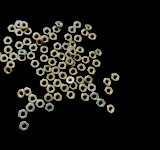nut: (19, 121, 30, 132), (18, 110, 29, 120), (3, 45, 14, 55), (26, 103, 36, 114), (39, 78, 49, 89), (103, 87, 114, 97), (65, 91, 76, 101), (90, 92, 99, 104), (3, 66, 13, 76), (35, 99, 45, 109), (43, 94, 53, 104), (96, 99, 106, 109), (36, 68, 46, 78), (84, 75, 94, 85), (46, 102, 55, 113), (87, 66, 96, 77), (3, 36, 13, 45), (74, 34, 83, 44), (30, 60, 40, 69), (93, 59, 102, 69), (81, 93, 90, 103), (54, 93, 63, 103), (60, 84, 69, 94), (28, 44, 38, 53), (14, 41, 24, 50), (34, 38, 44, 47), (59, 71, 68, 81), (88, 83, 97, 93), (77, 63, 87, 72), (107, 104, 115, 115), (46, 86, 57, 94), (101, 78, 112, 86), (112, 73, 121, 82), (28, 95, 37, 104), (27, 52, 36, 61), (48, 58, 57, 67), (40, 54, 49, 63), (49, 33, 58, 42), (70, 82, 79, 91), (88, 33, 97, 42), (53, 42, 62, 51), (82, 56, 91, 65), (68, 59, 77, 68), (18, 89, 26, 99), (46, 73, 56, 81), (53, 80, 63, 88), (0, 55, 10, 63), (14, 29, 24, 37), (79, 85, 89, 93), (69, 68, 79, 76), (64, 51, 74, 59), (10, 52, 18, 62), (8, 25, 17, 33), (20, 21, 29, 29), (23, 38, 32, 46), (25, 88, 33, 97), (7, 61, 15, 70), (43, 65, 52, 73), (43, 28, 52, 36), (33, 32, 41, 41), (55, 20, 64, 28), (53, 25, 61, 34), (67, 75, 75, 84), (76, 77, 85, 85), (58, 62, 67, 70), (62, 42, 70, 51), (74, 35, 82, 44), (64, 33, 72, 42), (58, 52, 66, 61), (69, 48, 77, 57), (74, 54, 82, 63), (65, 58, 75, 65), (74, 21, 82, 29), (41, 46, 49, 54), (52, 67, 60, 75), (42, 36, 50, 44), (69, 25, 77, 33), (77, 46, 85, 54), (89, 51, 97, 59), (18, 55, 27, 62), (14, 21, 23, 28), (51, 49, 58, 58), (24, 28, 32, 35), (81, 29, 88, 37), (18, 50, 27, 56), (85, 24, 92, 31), (70, 41, 77, 48), (97, 49, 102, 57), (0, 50, 2, 59)
